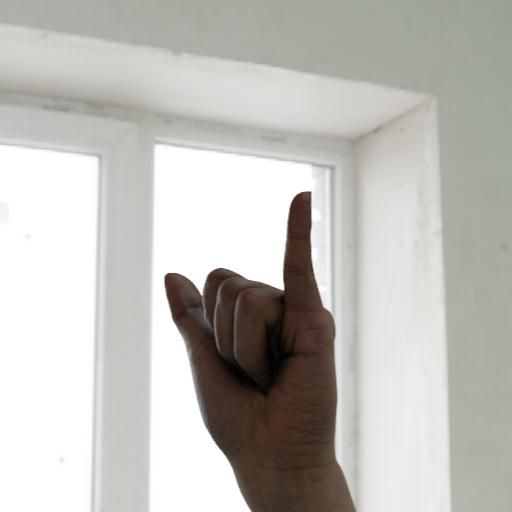Y: (158, 186, 352, 490)
